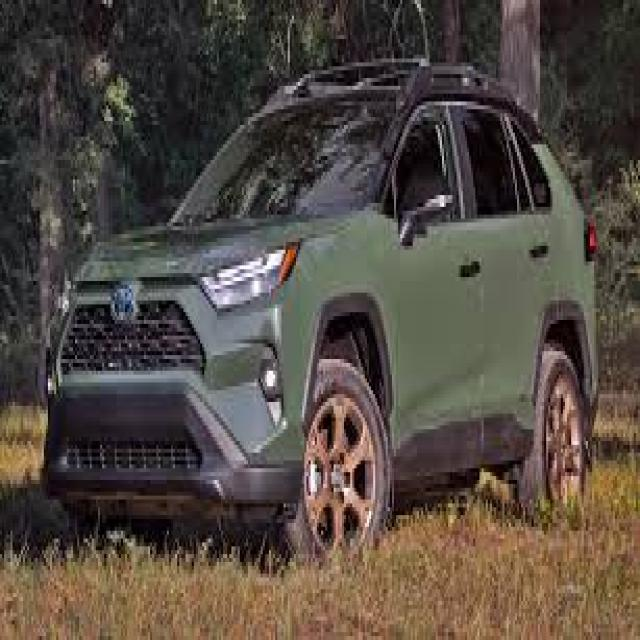light_vehicle: (40, 58, 602, 570)
